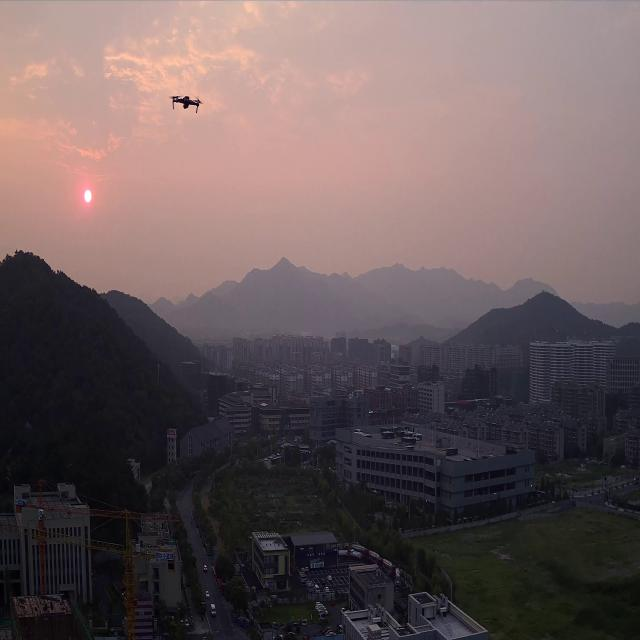UAV: (166, 95, 204, 113)
